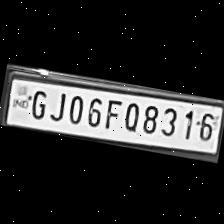0: (64, 88, 87, 124)
1: (176, 104, 197, 138)
3: (155, 100, 180, 138)
6: (82, 90, 105, 127), (193, 106, 216, 142)
8: (138, 98, 162, 135)
F: (100, 94, 124, 130)
G: (24, 83, 50, 119)
J: (45, 85, 69, 122)
Q: (118, 95, 142, 131)
